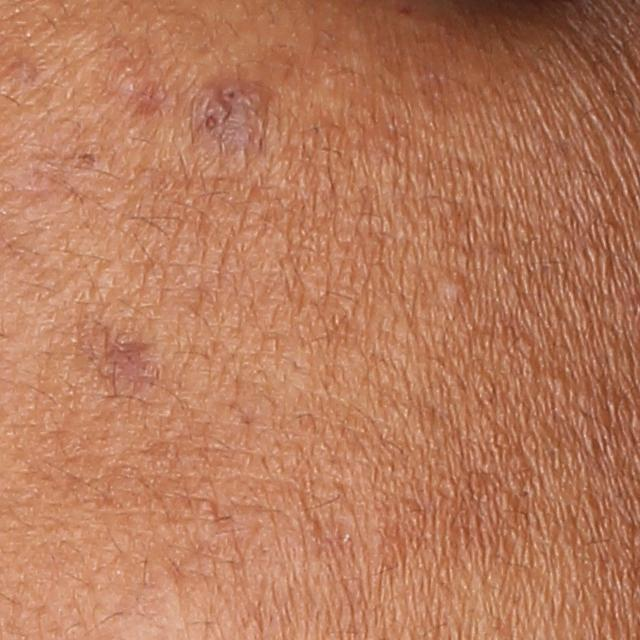comedo: (439, 271, 473, 304)
